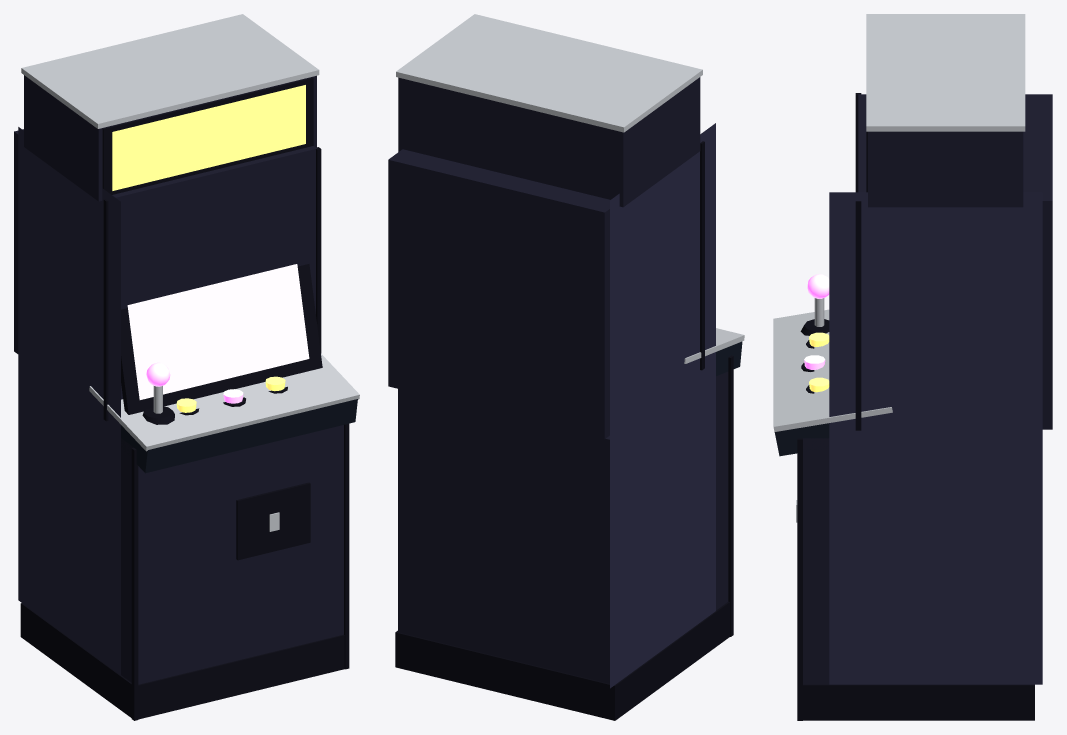
The model's file is cabinet.glb.
3 renders of one model, left to right at view 1: azimuth 30°, elevation 25°; view 2: azimuth 150°, elevation 25°; view 3: azimuth 270°, elevation 25°, orthographic. The views are drawn at different scales.
Parts seen in each view (by area): view 1: body, side, trim, chrome, screen, marquee, controls; view 2: body, side, chrome, trim, controls; view 3: side, body, chrome, trim, controls, screen, marquee.
Boxes of the visible parts, left/top/right/bottom form: body: left=14, top=75, right=343, bottom=684; side: left=18, top=127, right=120, bottom=674; trim: left=20, top=77, right=349, bottom=720; chrome: left=21, top=14, right=359, bottom=531; screen: left=127, top=264, right=309, bottom=403; marquee: left=112, top=85, right=305, bottom=412; controls: left=121, top=399, right=357, bottom=473; body: left=388, top=77, right=728, bottom=683; side: left=610, top=123, right=715, bottom=688; chrome: left=396, top=14, right=744, bottom=363; trim: left=395, top=141, right=733, bottom=720; controls: left=716, top=341, right=742, bottom=376; side: left=829, top=192, right=1042, bottom=684; body: left=803, top=94, right=1052, bottom=684; chrome: left=773, top=14, right=1025, bottom=522; trim: left=797, top=93, right=1034, bottom=720; controls: left=774, top=423, right=829, bottom=456; screen: left=804, top=274, right=829, bottom=369; marquee: left=809, top=332, right=829, bottom=392.
Size of the model in its own units: 2.74 by 6.78 by 2.88.
